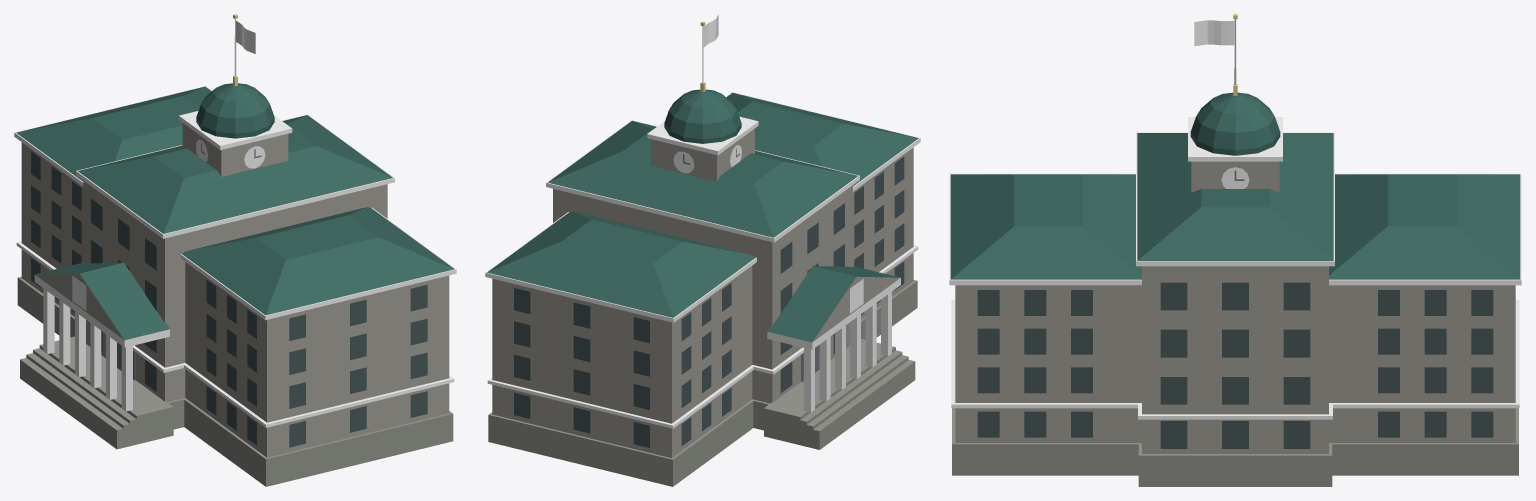
Rendered from top-prebuilt.fbx.
3 views of the same model, side by side, from view 1: azimuth 30°, elevation 25°; view 2: azimuth 150°, elevation 25°; view 3: azimuth 270°, elevation 25° (orthographic). The views are drawn at different scales.
Parts seen in each view (by area): view 1: a100_CityHall_normal; view 2: a100_CityHall_normal; view 3: a100_CityHall_normal.
Part boxes in pixels (x1,y1,x2,y2): a100_CityHall_normal: [14, 14, 456, 486]; a100_CityHall_normal: [485, 14, 920, 486]; a100_CityHall_normal: [949, 14, 1521, 486].
Bounding box in the file's own units: 27.95 × 33.8 × 42.9.
